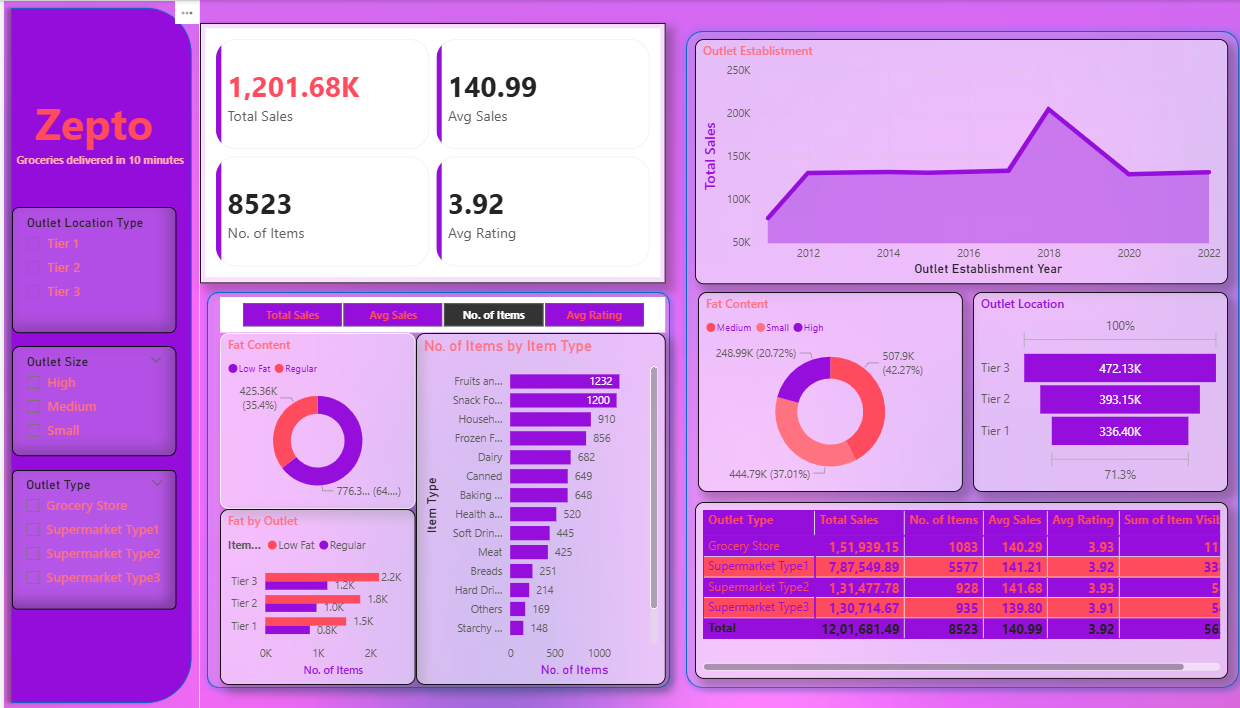

The dashboard page shown, as its layout file describes it:
{"tool":"powerbi","page":{"name":"Page 1","canvas":[1400,800],"ordinal":0},"visuals":[{"type":"shape","box":[0,0,221.2,800.2],"z":0},{"type":"textbox","box":[10.4,100.2,184.8,85.9],"z":1000},{"type":"textbox","box":[10.4,165.2,201.7,67.7],"z":2000},{"type":"cardVisual","fields":{"Data":["zeptodataset.Total Sales","zeptodataset.Avg Sales","zeptodataset.No. of Sales","zeptodataset.Avg Rating"]},"box":[221.2,26,524.3,292.8],"z":3000},{"type":"shape","box":[221,319.3,539.1,463.7],"z":4000},{"type":"donutChart","title":"Fat Content","fields":{"Y":["Sum(zeptodataset.Sales)"],"Category":["zeptodataset.Item Fat Content"]},"box":[244.6,374.7,219.9,198],"z":5000},{"type":"slicer","fields":{"Values":["Metrics.Metrics"]},"box":[244,334.7,500.7,39.6],"z":6000},{"type":"clusteredBarChart","title":"Fat by Outlet","fields":{"Y":["zeptodataset.No. of Items"],"Category":["zeptodataset.Outlet Location Type"],"Series":["zeptodataset.Item Fat Content"]},"box":[244.6,572.5,219.9,197.8],"z":7000},{"type":"barChart","fields":{"Y":["zeptodataset.No. of Items"],"Category":["zeptodataset.Item Type"]},"box":[464.5,374.7,281,395.5],"z":8000},{"type":"shape","box":[759.9,26,640.1,757.2],"z":9000},{"type":"lineChart","title":"Outlet Establistment ","fields":{"Category":["zeptodataset.Outlet Establishment Year"],"Y":["zeptodataset.Total Sales"]},"box":[779.2,43.4,600.4,275.9],"z":10000},{"type":"donutChart","title":"Fat Content","fields":{"Y":["zeptodataset.Total Sales"],"Category":["zeptodataset.Outlet Size"]},"box":[781.8,328.3,297.6,224.8],"z":11000},{"type":"funnel","title":"Outlet Location","fields":{"Y":["Sum(zeptodataset.Sales)"],"Category":["zeptodataset.Outlet Location Type"]},"box":[1092.2,328.3,287.4,224.8],"z":12000},{"type":"pivotTable","fields":{"Rows":["zeptodataset.Outlet Type"],"Values":["zeptodataset.Total Sales","zeptodataset.No. of Items","zeptodataset.Avg Sales","zeptodataset.Avg Rating","Sum(zeptodataset.Item Visibility)"]},"box":[779.2,564.6,600.4,199.3],"z":13000},{"type":"slicer","fields":{"Values":["zeptodataset.Outlet Location Type"]},"box":[10.2,232.5,185.2,141.8],"z":13001},{"type":"slicer","fields":{"Values":["zeptodataset.Outlet Size"]},"box":[10.2,389.6,185.2,123.9],"z":13002},{"type":"slicer","fields":{"Values":["zeptodataset.Outlet Type"]},"box":[10.2,528.8,185.2,157.1],"z":13003}]}

Visuals, with their boxes in screenshot pixels (x1, y1, x2, y2), scaled from the page's 1400x800 canvas onto the 1240x708 screenshot:
shape: <bbox>0, 0, 196, 707</bbox>
textbox: <bbox>9, 89, 173, 165</bbox>
textbox: <bbox>9, 146, 188, 206</bbox>
cardVisual - zeptodataset.Total Sales x zeptodataset.Avg Sales: <bbox>196, 23, 660, 282</bbox>
shape: <bbox>196, 283, 673, 693</bbox>
"Fat Content" donutChart: <bbox>217, 332, 411, 507</bbox>
slicer - Metrics.Metrics: <bbox>216, 296, 660, 331</bbox>
"Fat by Outlet" clusteredBarChart: <bbox>217, 507, 411, 682</bbox>
barChart - zeptodataset.No. of Items x zeptodataset.Item Type: <bbox>411, 332, 660, 682</bbox>
shape: <bbox>673, 23, 1239, 693</bbox>
"Outlet Establistment " lineChart: <bbox>690, 38, 1222, 283</bbox>
"Fat Content" donutChart: <bbox>692, 291, 956, 489</bbox>
"Outlet Location" funnel: <bbox>967, 291, 1222, 489</bbox>
pivotTable - zeptodataset.Outlet Type x zeptodataset.Total Sales: <bbox>690, 500, 1222, 676</bbox>
slicer - zeptodataset.Outlet Location Type: <bbox>9, 206, 173, 331</bbox>
slicer - zeptodataset.Outlet Size: <bbox>9, 345, 173, 454</bbox>
slicer - zeptodataset.Outlet Type: <bbox>9, 468, 173, 607</bbox>
